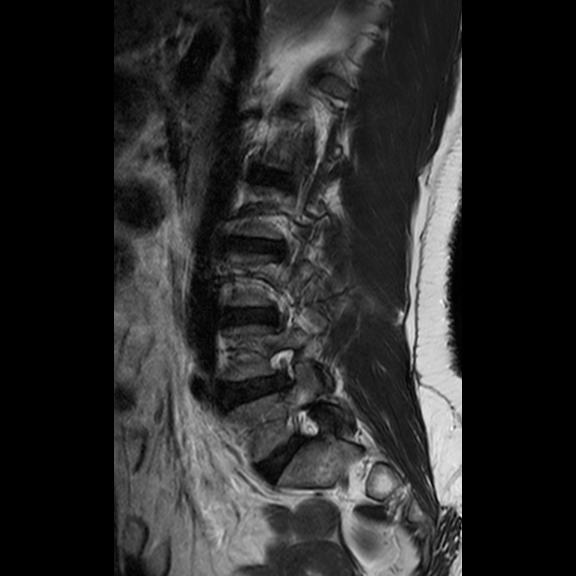RFS1: (260, 338, 306, 397)
